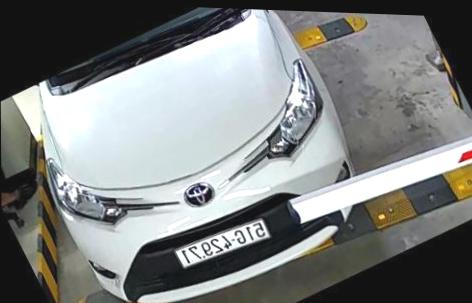License_Plate: (173, 210, 276, 275)
